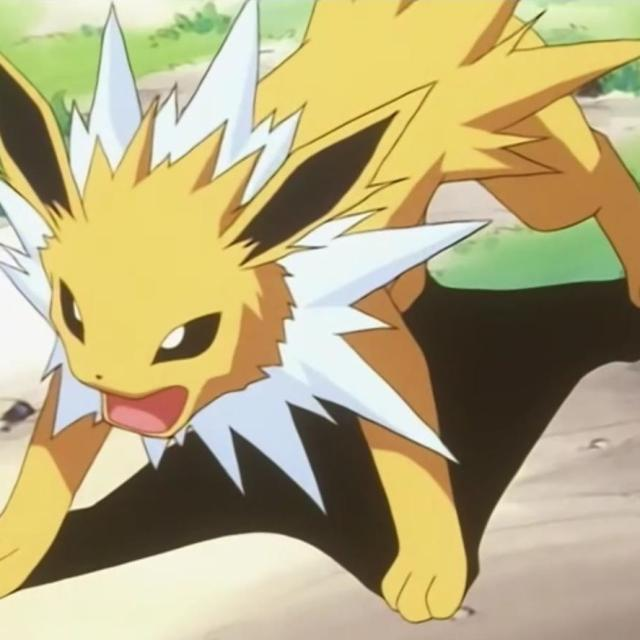Jolteon: (1, 0, 624, 582)
